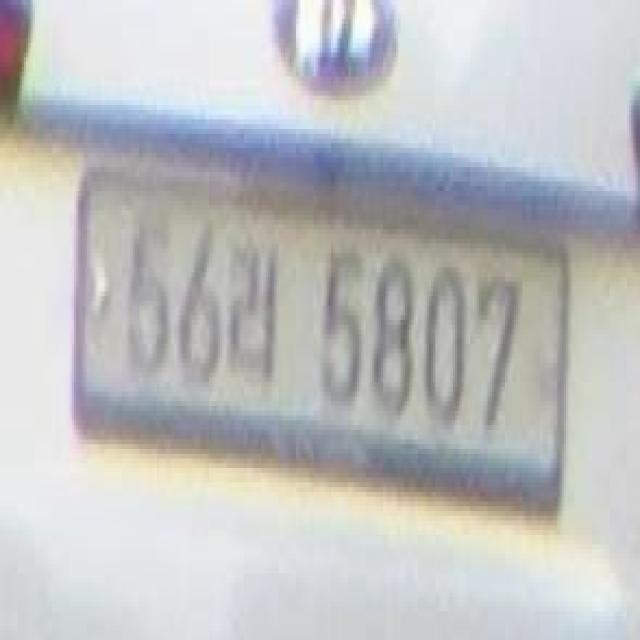illegal_plate: (79, 165, 575, 532)
